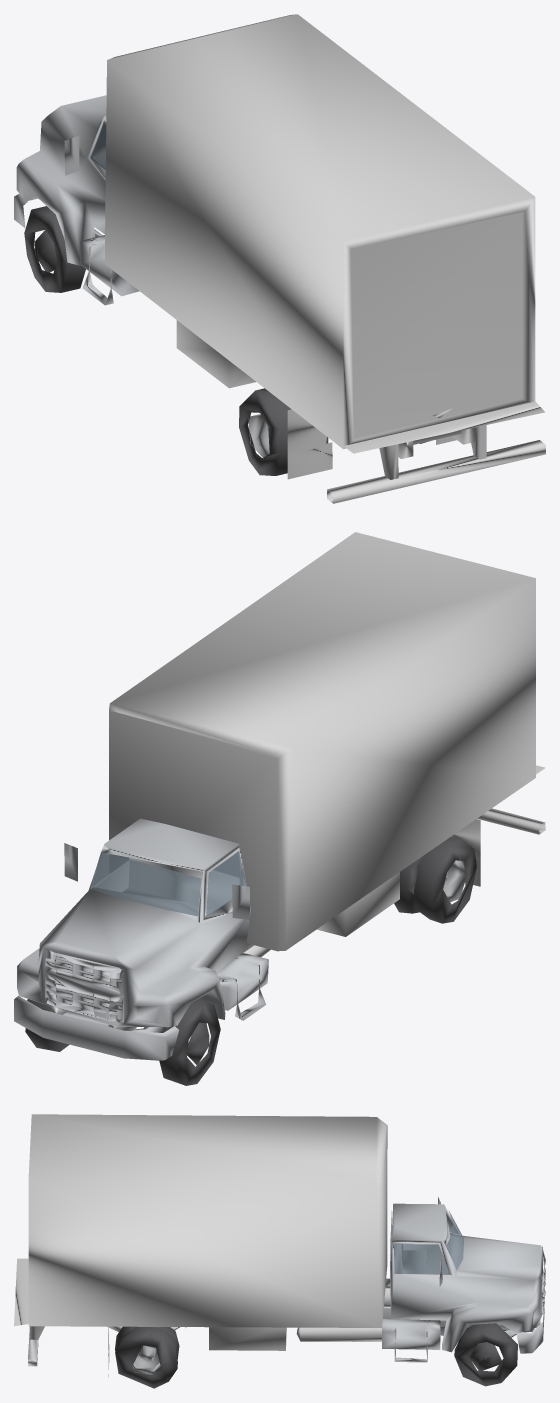
The model's file is truck-mid.glb.
3 views of the same model, one above another, from view 1: azimuth 30°, elevation 25°; view 2: azimuth 150°, elevation 25°; view 3: azimuth 270°, elevation 25° (orthographic). The views are drawn at different scales.
Visible parts, largest first — view 1: body; view 2: body, glass; view 3: body, glass.
Boxes of the visible parts, x1,y1,x2,y2 form: body: (14, 14, 545, 503); body: (14, 532, 545, 1085); glass: (90, 851, 245, 916); body: (14, 1114, 545, 1388); glass: (390, 1210, 463, 1273).
Size of the model in its own units: 2.29 by 3.07 by 7.09.
